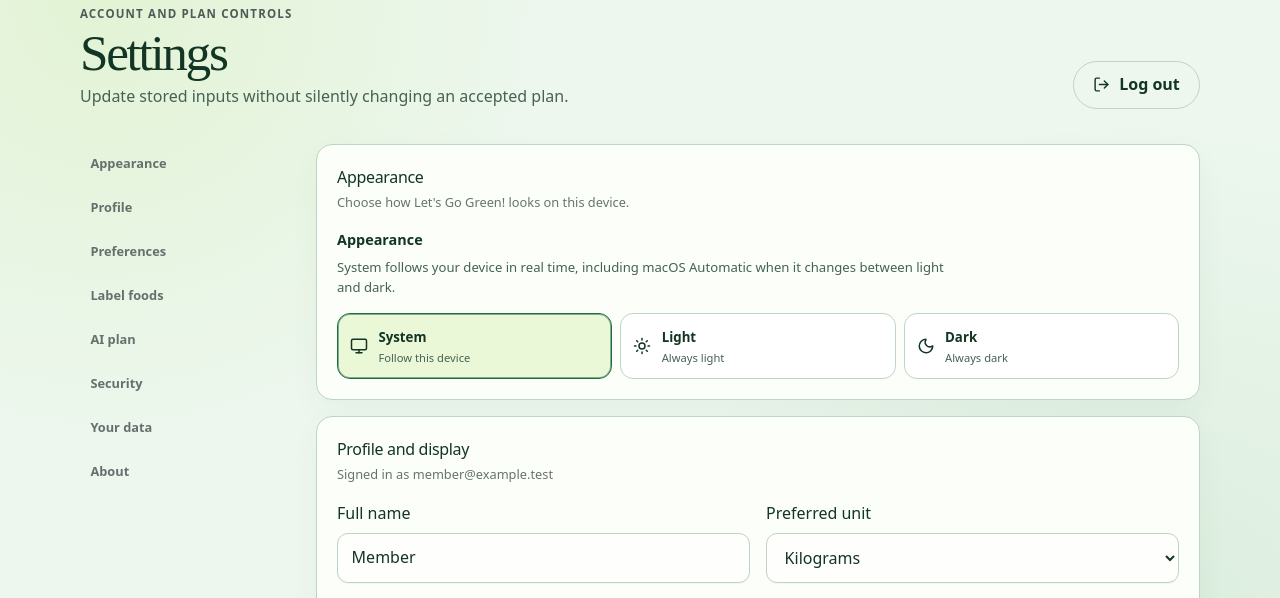
it: SettingsView › keeps the user in place and shows the structured retryable reason
What coordinates should you click on to do the following:
click the button "Log out"
I would click on:
 (1137, 85)
Its box is [1073,61,1200,109].
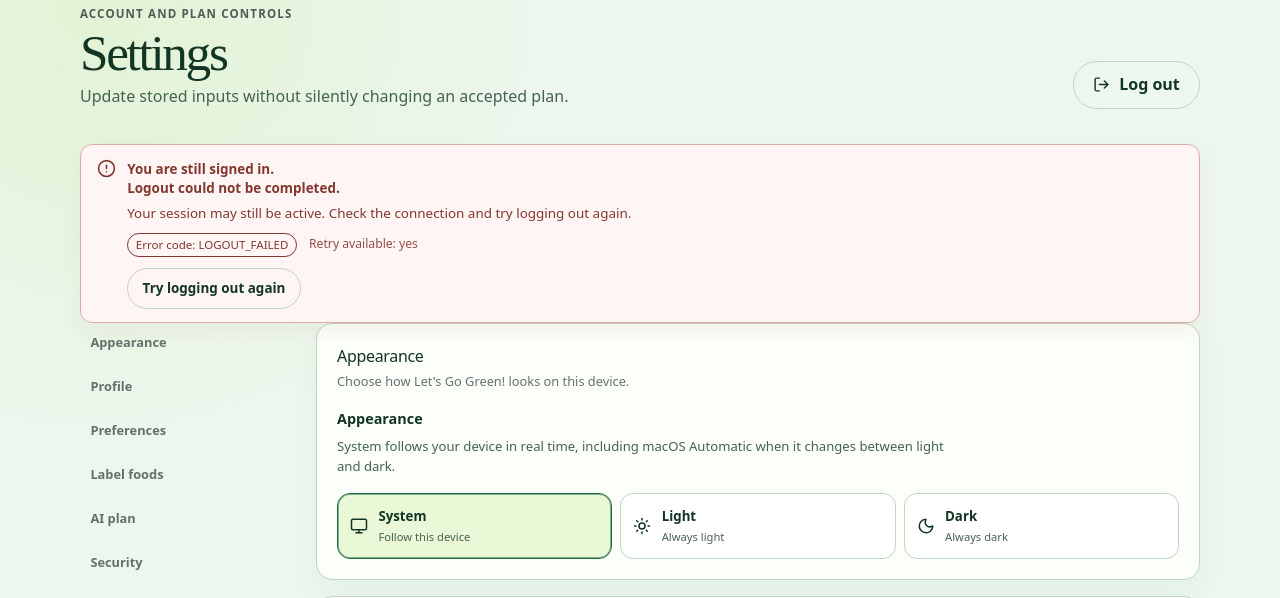
Expected: the message shows "You are still signed in.", [127,160,274,178]
Expected: the message shows "Error code: LOGOUT_FAILED", [80,144,1200,323]
Expected: the message shows "Your session may still be active.", [127,204,631,222]
